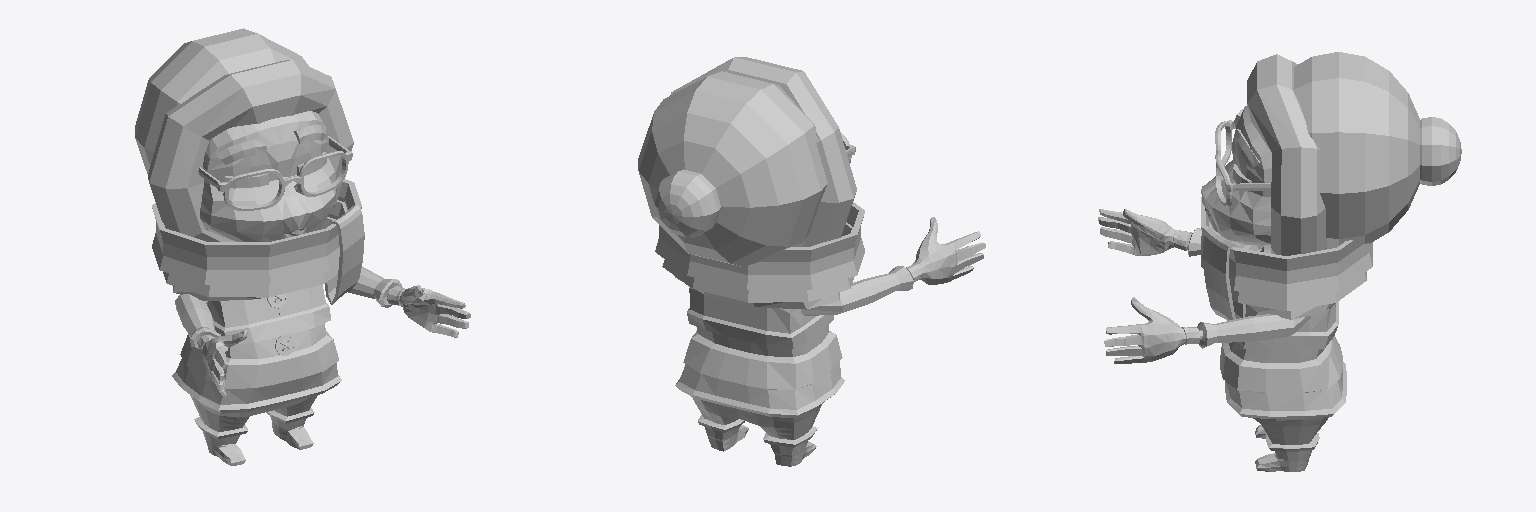
File: character1.obj
3 views of the same model, side by side, from view 1: azimuth 30°, elevation 25°; view 2: azimuth 150°, elevation 25°; view 3: azimuth 270°, elevation 25° (orthographic).
Visible parts, largest first — view 1: character; view 2: character; view 3: character.
Part boxes in pixels (x1,y1,x2,y2): character: (135,28,470,465); character: (638,57,985,466); character: (1098,52,1461,471).
Bounding box in the file's own units: 51.54 × 74.69 × 63.67.